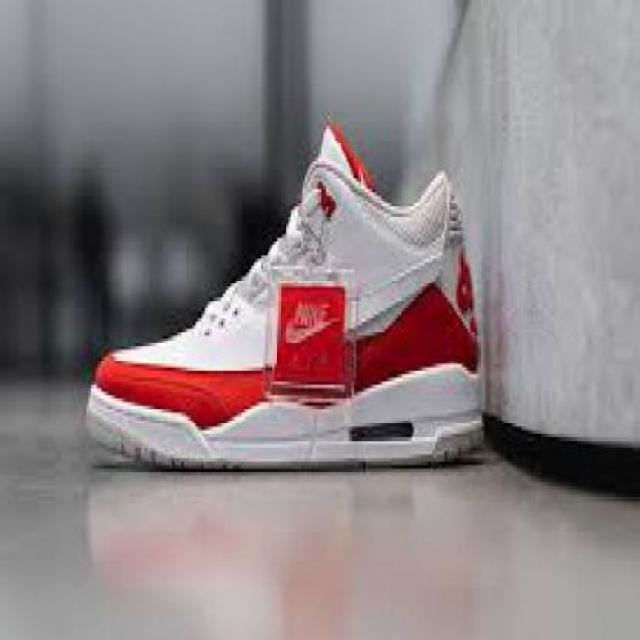Nike: (281, 294, 338, 347)
